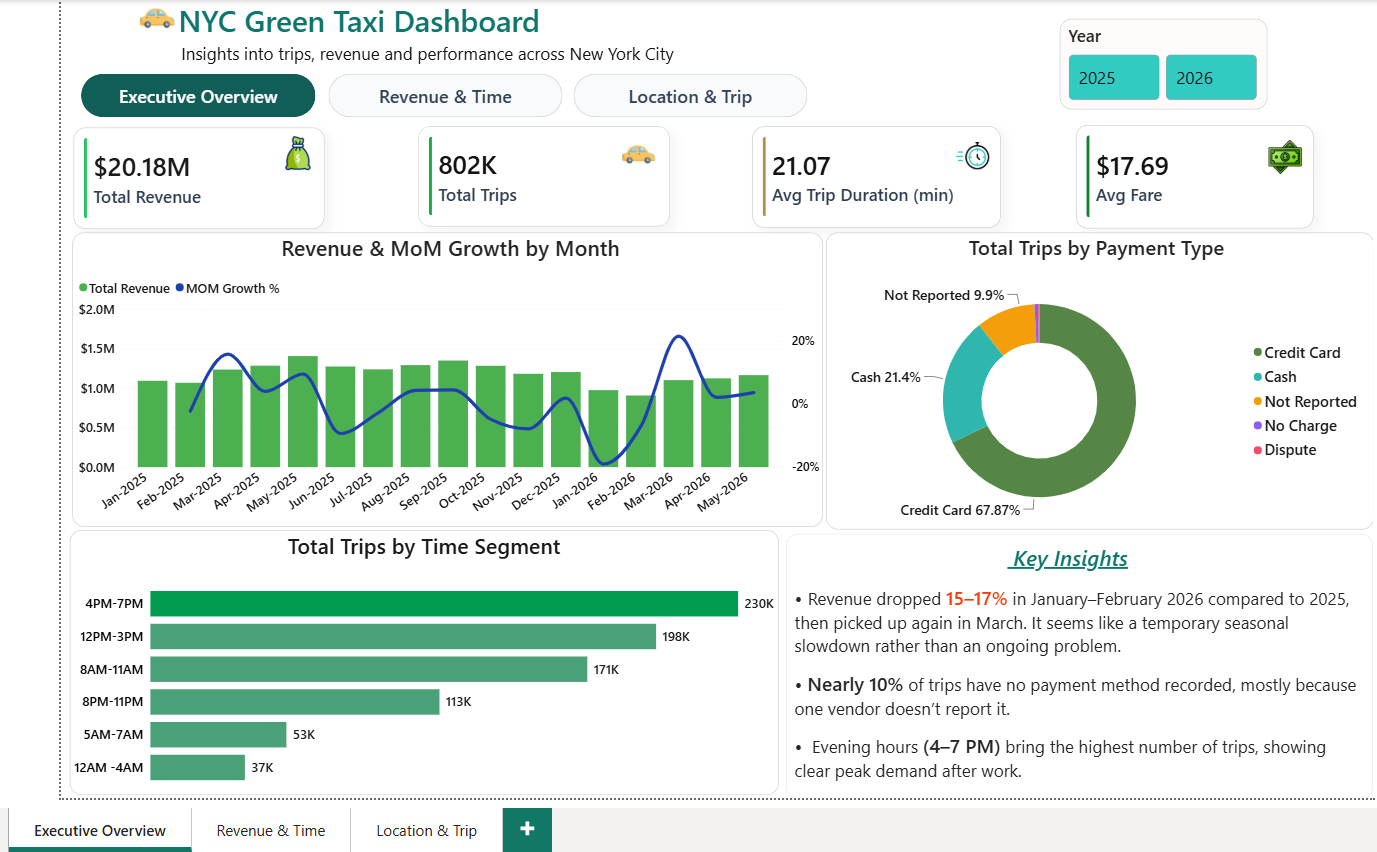

What the dashboard file says about the page in this screenshot:
{"tool":"powerbi","page":{"name":"Executive Overview","canvas":[1650,1000],"ordinal":0},"visuals":[{"type":"cardVisual","fields":{"Data":["_Measure .Total Revenue"]},"box":[15.7,159.7,314.2,127.4],"z":0},{"type":"cardVisual","fields":{"Data":["_Measure .Total Trips"]},"box":[447.7,158.1,314.2,125.7],"z":1000},{"type":"cardVisual","fields":{"Data":["_Measure .Avg Fare"]},"box":[1270.4,156.3,297.4,129.9],"z":2000},{"type":"cardVisual","fields":{"Data":["_Measure .Avg Trip Duration (min)"]},"box":[866.2,157.9,311.5,126.8],"z":3000},{"type":"image","box":[825.4,20.4,68.9,53.2],"z":4000},{"type":"image","box":[274,170.6,45.4,42.3],"z":5000},{"type":"image","box":[1119.3,173.8,45,42],"z":6000},{"type":"donutChart","fields":{"Category":["green_taxi.Payment Type"],"Y":["_Measure .Total Trips"]},"box":[957.9,290.4,686,372],"z":7000},{"type":"lineStackedColumnComboChart","title":"Revenue & MoM Growth by Month","fields":{"Category":["Calender Table.Month Year"],"Y":["_Measure .Total Revenue"],"Y2":["_Measure .MOM Growth %"]},"box":[13.6,290.4,940,369],"z":8000},{"type":"textbox","box":[68.9,0,823.4,92.4],"z":9000},{"type":"actionButton","box":[25.5,91.7,293.8,54.3],"z":10000},{"type":"actionButton","box":[334.6,91.7,293,54.3],"z":11000},{"type":"actionButton","box":[642,91.7,293,54.3],"z":12000},{"type":"image","box":[86.1,0,68.9,45.4],"z":13000},{"type":"textbox","box":[908,668.4,735,331.9],"z":14000},{"type":"image","box":[698.2,172.2,50,42],"z":15000},{"type":"image","box":[1510.7,175.3,45,42],"z":16000},{"type":"advancedSlicerVisual","fields":{"Values":["Calender Table.Year"]},"box":[1250.8,23.5,259.9,114.3],"z":17000},{"type":"clusteredBarChart","fields":{"Category":["green_taxi.time_segment"],"Y":["_Measure .Total Trips"]},"box":[11,663.7,888,331.9],"z":18000}]}

Visuals, with their boxes on the page's 1650x1000 design canvas (x1, y1, x2, y2). These are canvas units, not pixel positions in the 1377x852 screenshot, which may show the page scaled, cropped or inside an application window:
cardVisual - _Measure .Total Revenue: (x1=16, y1=160, x2=330, y2=287)
cardVisual - _Measure .Total Trips: (x1=448, y1=158, x2=762, y2=284)
cardVisual - _Measure .Avg Fare: (x1=1270, y1=156, x2=1568, y2=286)
cardVisual - _Measure .Avg Trip Duration (min): (x1=866, y1=158, x2=1178, y2=285)
image: (x1=825, y1=20, x2=894, y2=74)
image: (x1=274, y1=171, x2=319, y2=213)
image: (x1=1119, y1=174, x2=1164, y2=216)
donutChart - green_taxi.Payment Type x _Measure .Total Trips: (x1=958, y1=290, x2=1644, y2=662)
"Revenue & MoM Growth by Month" lineStackedColumnComboChart: (x1=14, y1=290, x2=954, y2=659)
textbox: (x1=69, y1=0, x2=892, y2=92)
actionButton: (x1=26, y1=92, x2=319, y2=146)
actionButton: (x1=335, y1=92, x2=628, y2=146)
actionButton: (x1=642, y1=92, x2=935, y2=146)
image: (x1=86, y1=0, x2=155, y2=45)
textbox: (x1=908, y1=668, x2=1643, y2=1000)
image: (x1=698, y1=172, x2=748, y2=214)
image: (x1=1511, y1=175, x2=1556, y2=217)
advancedSlicerVisual - Calender Table.Year: (x1=1251, y1=24, x2=1511, y2=138)
clusteredBarChart - green_taxi.time_segment x _Measure .Total Trips: (x1=11, y1=664, x2=899, y2=996)
